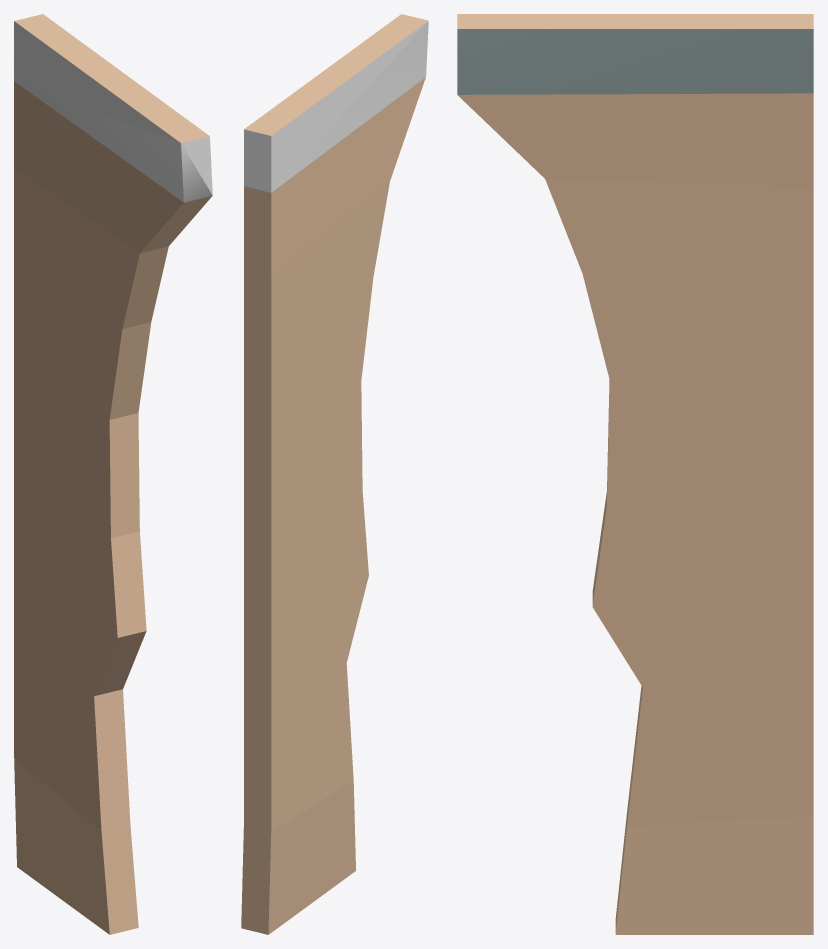
File: wallHalfDestroyed.fbx
3 views of the same model, side by side, from view 1: azimuth 30°, elevation 25°; view 2: azimuth 150°, elevation 25°; view 3: azimuth 270°, elevation 25° (orthographic). The views are drawn at different scales.
Parts seen in each view (by area): view 1: wallHalfDestroyed; view 2: wallHalfDestroyed; view 3: wallHalfDestroyed.
Boxes of the visible parts, x1,y1,x2,y2 form: wallHalfDestroyed: (14, 14, 212, 934); wallHalfDestroyed: (241, 14, 428, 934); wallHalfDestroyed: (457, 14, 813, 934).
Size of the model in its own units: 55 by 1400 by 500.
